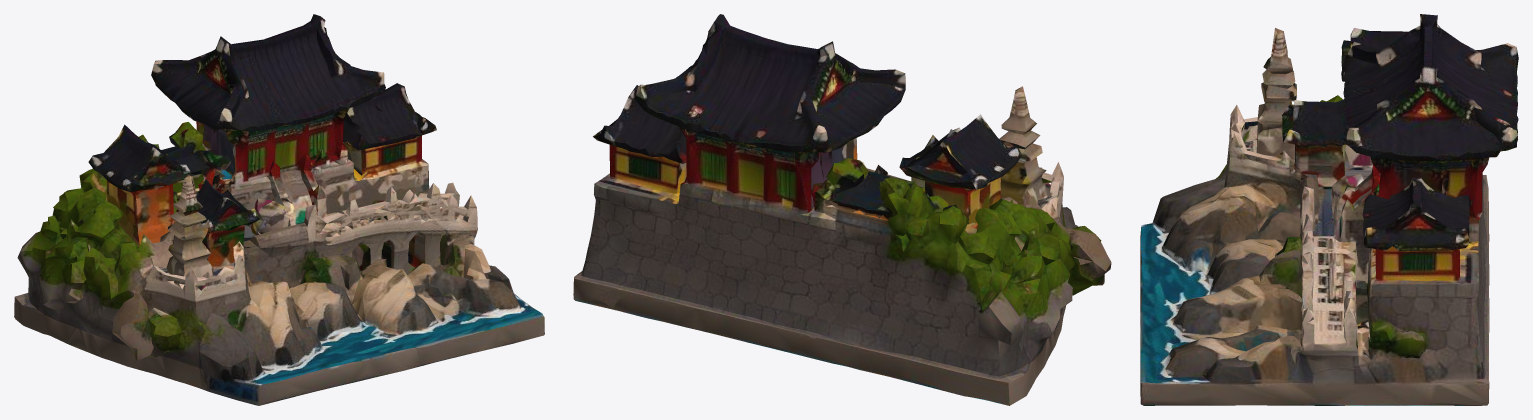
The model's file is haedong-yonggungsa.glb.
3 renders of one model, left to right at view 1: azimuth 30°, elevation 25°; view 2: azimuth 150°, elevation 25°; view 3: azimuth 270°, elevation 25°, orthographic. The views are drawn at different scales.
Parts seen in each view (by area): view 1: logan-textured.obj; view 2: logan-textured.obj; view 3: logan-textured.obj.
Boxes of the visible parts, box(x1,y1,x2,y2) form: logan-textured.obj: box(14, 14, 544, 405); logan-textured.obj: box(573, 14, 1111, 405); logan-textured.obj: box(1140, 14, 1518, 405).
Size of the model in its own units: 1 by 0.6239 by 0.7475.
Materials: 1 (1 with a texture image).
